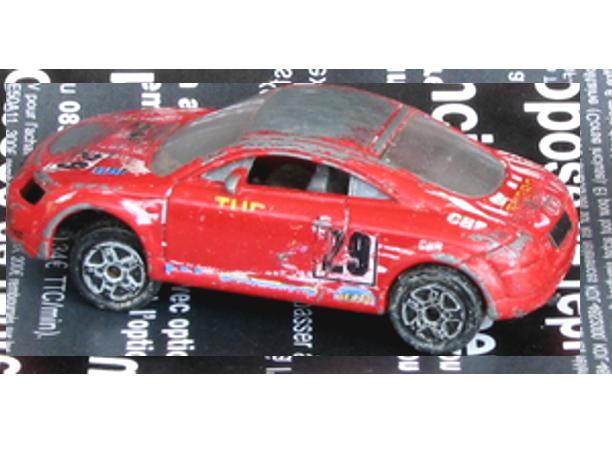toy-car: (5, 83, 579, 356)
